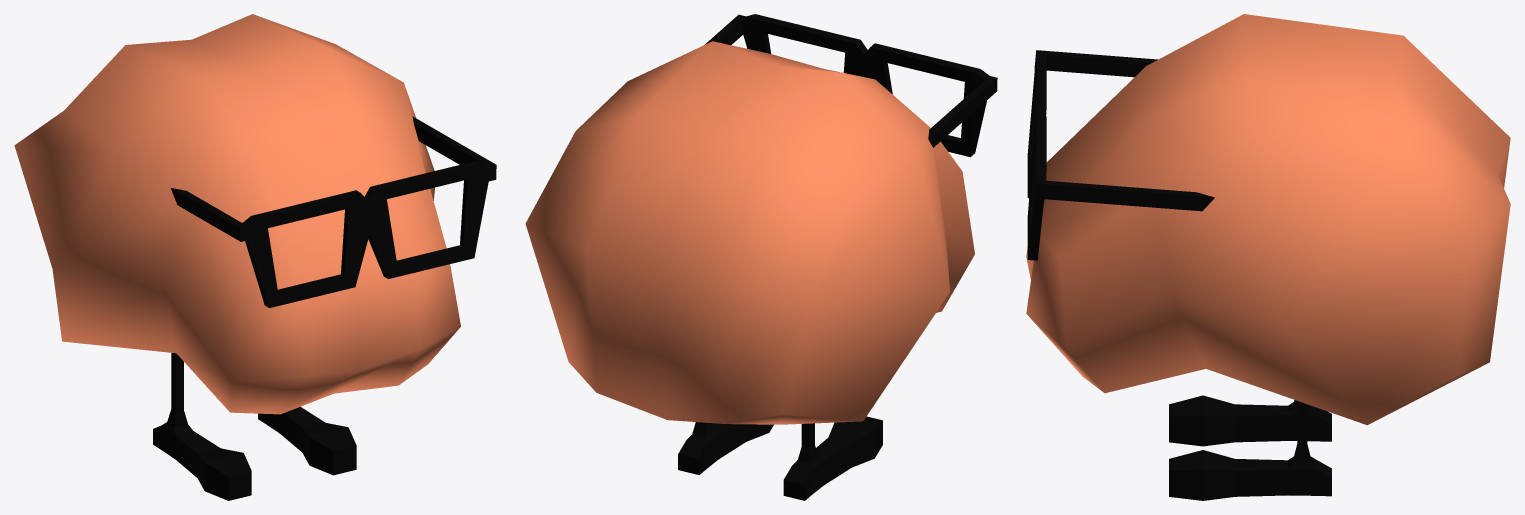
Rendered from MrBrain.fbx.
The picture shows the model from 3 angles, left to right: view 1: azimuth 30°, elevation 25°; view 2: azimuth 150°, elevation 25°; view 3: azimuth 270°, elevation 25°; orthographic projection. The views are drawn at different scales.
Parts seen in each view (by area): view 1: pCube1, pCube6, pCube3, pCube2; view 2: pCube1, pCube6, pCube3, pCube2; view 3: pCube1, pCube6, pCube2, pCube3.
Boxes of the visible parts, x1,y1,x2,y2 form: pCube1: (14,14,460,414); pCube6: (171,116,496,307); pCube3: (153,353,251,500); pCube2: (258,406,356,475); pCube1: (525,41,974,424); pCube6: (705,14,997,157); pCube3: (783,416,882,500); pCube2: (678,422,773,474); pCube1: (1026,14,1510,425); pCube6: (1027,50,1214,260); pCube2: (1169,401,1331,500); pCube3: (1169,395,1331,446).
Bounding box in the file's own units: 16.5 × 16.19 × 16.93.
